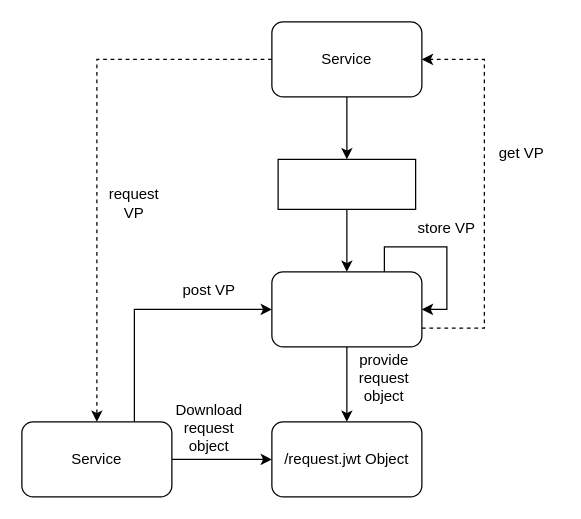
Some shapes in this 581 by 519 pixel diagram are drawn without their labels. The box of each missing label's shape, as (x1, y1, x2, y2) in pixels:
Credential Verification Service: (271, 271, 422, 347)
Nats: (277, 158, 416, 209)
